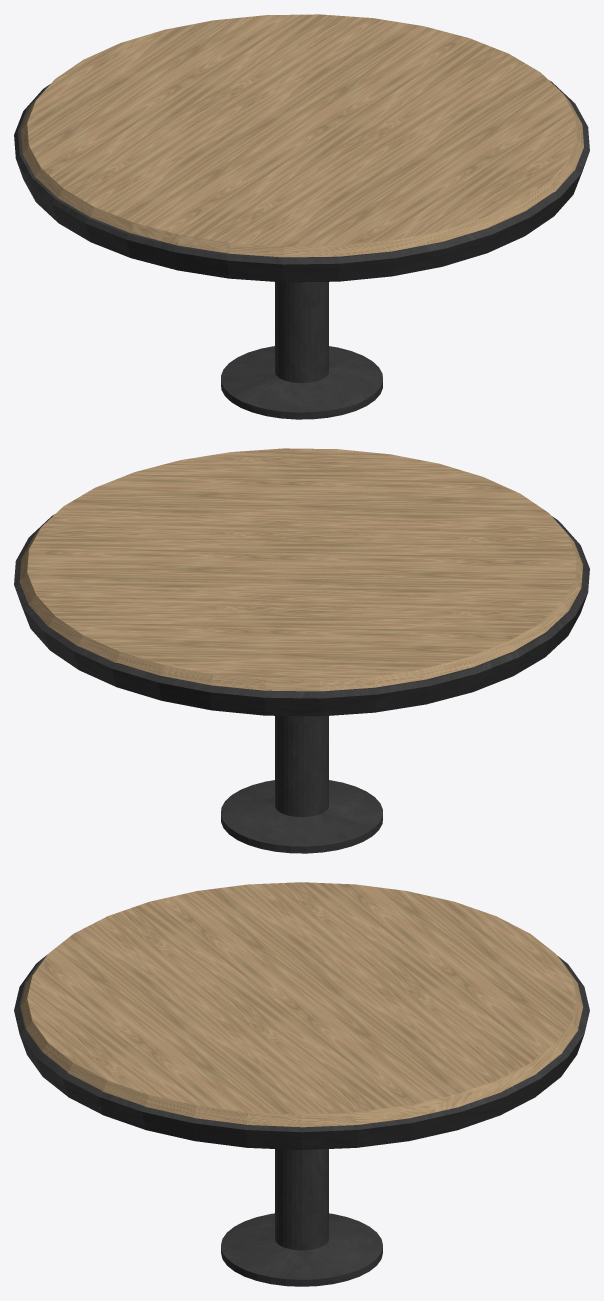
Rendered from Table.fbx.
3 views of the same model, one above another, from view 1: azimuth 30°, elevation 25°; view 2: azimuth 150°, elevation 25°; view 3: azimuth 270°, elevation 25° (orthographic).
Parts seen in each view (by area): view 1: Table, Table.001, TableFrame; view 2: Table, Table.001, TableFrame; view 3: Table, Table.001, TableFrame.
Part boxes in pixels (left/top/right/bottom): Table: left=21, top=14, right=583, bottom=257; Table.001: left=14, top=80, right=589, bottom=282; TableFrame: left=221, top=282, right=382, bottom=419; Table: left=19, top=448, right=582, bottom=691; Table.001: left=14, top=514, right=589, bottom=716; TableFrame: left=221, top=716, right=382, bottom=853; Table: left=21, top=882, right=583, bottom=1127; Table.001: left=14, top=954, right=589, bottom=1149; TableFrame: left=221, top=1149, right=382, bottom=1286.
Bounding box in the file's own units: 3301 × 1607 × 3301.
2 materials, 2 textured.
